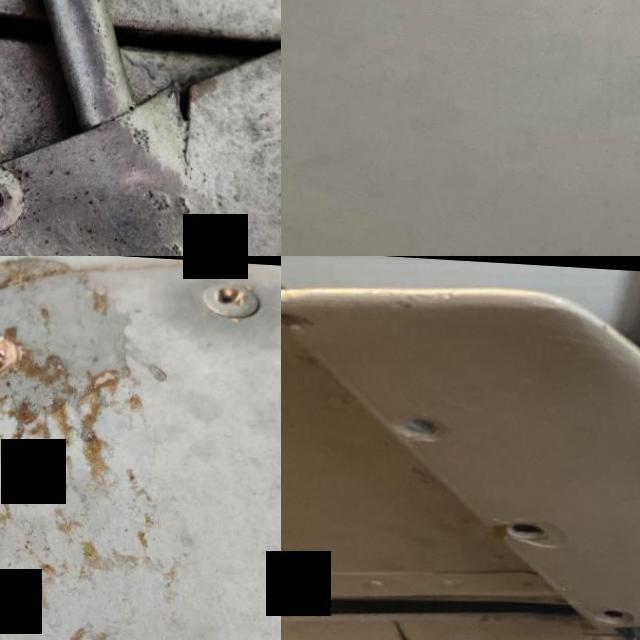Crack: (146, 55, 232, 175)
Missing_Fastener: (0, 285, 62, 416), (397, 406, 459, 450), (505, 514, 565, 546), (588, 595, 639, 626)
